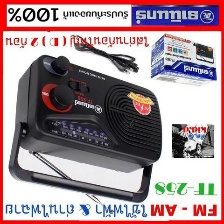book: (146, 30, 219, 90)
